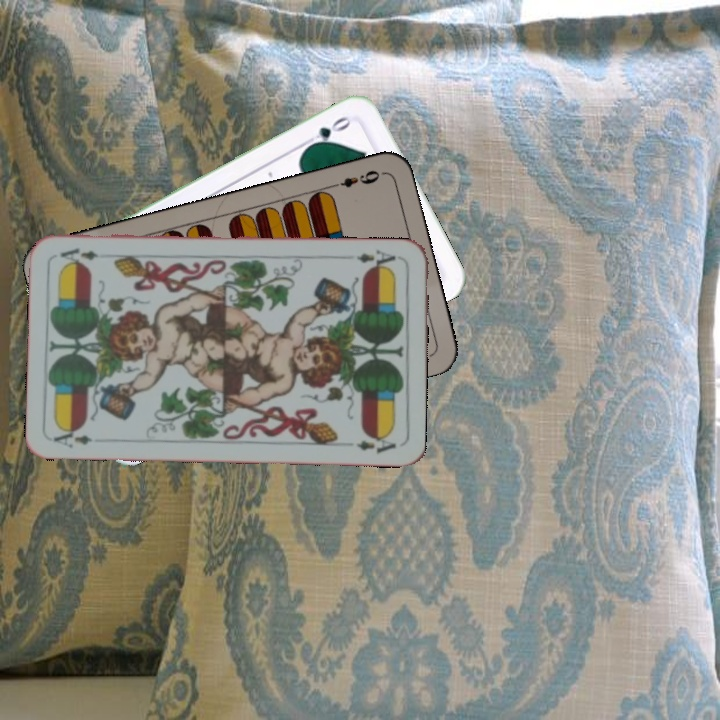E9: (327, 166, 383, 191)
EA: (353, 246, 398, 272), (50, 424, 95, 450)
GO: (301, 112, 358, 150)
